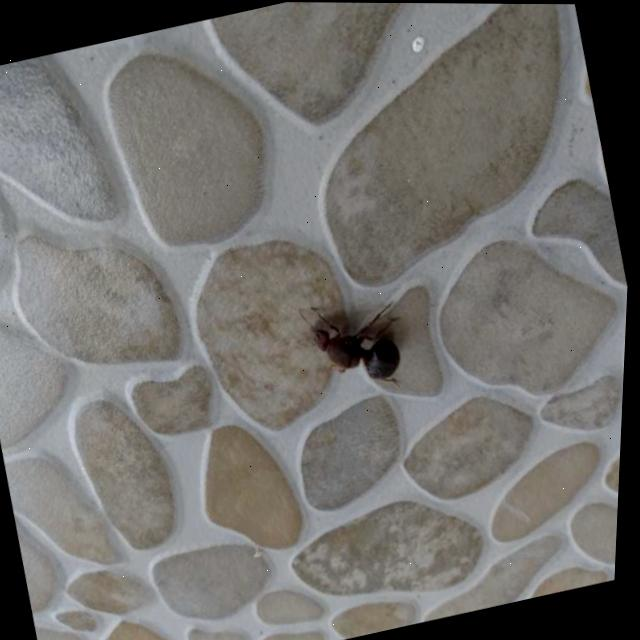Alive-Female-Dealate: (291, 286, 419, 407)
